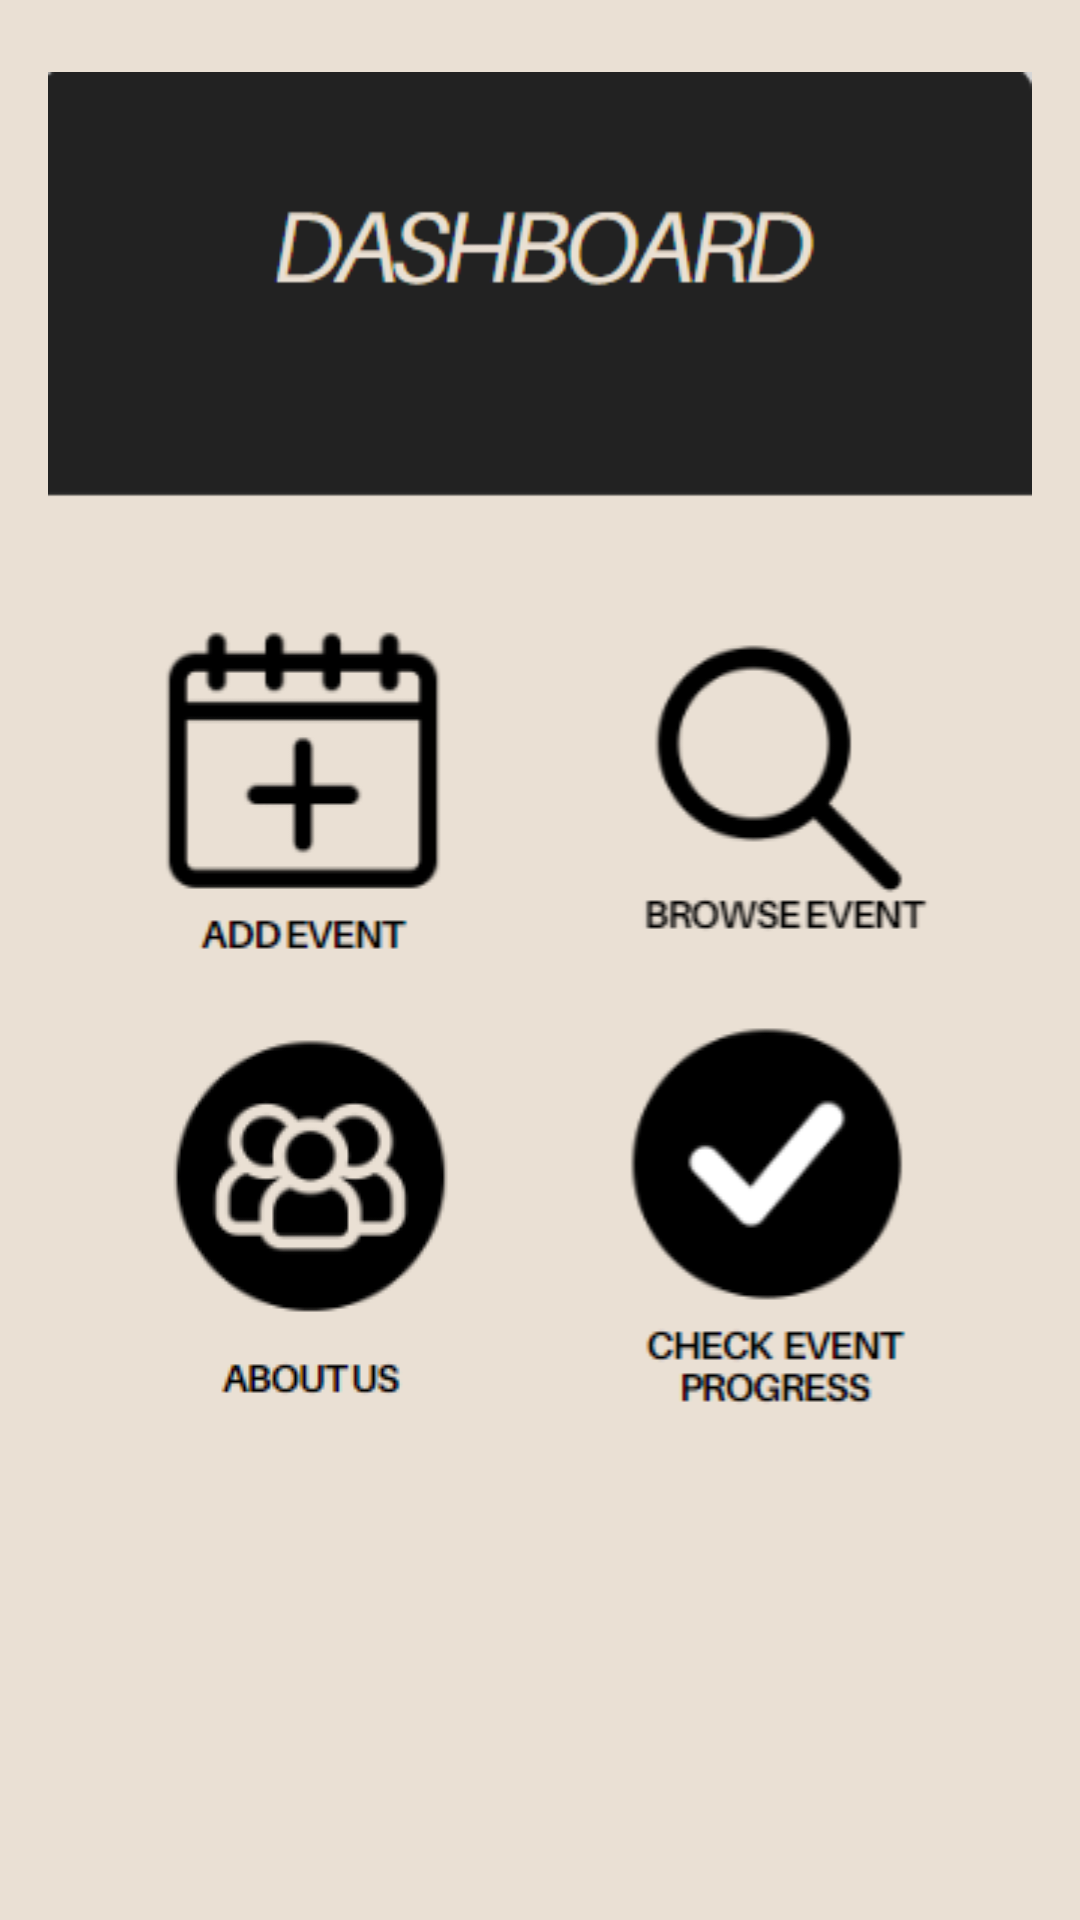

Screen size 1080w x 1920h. Icon name, then its center in pixels as point (x, y):
search: point (786, 787)
